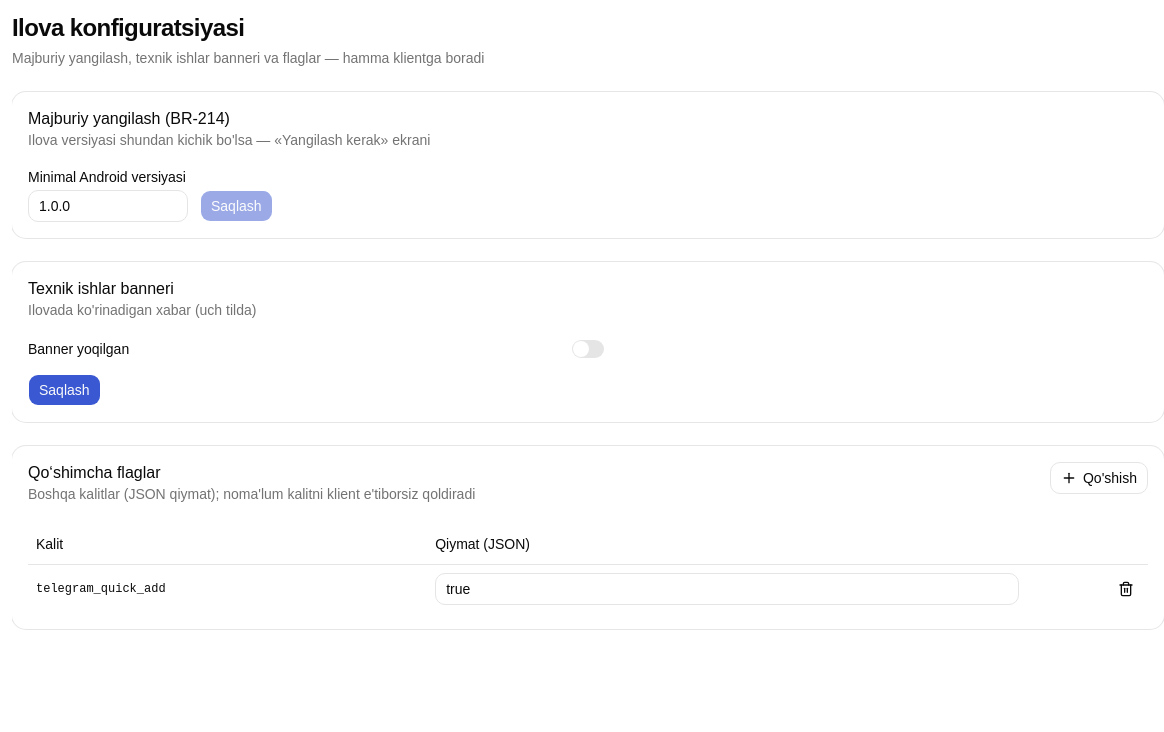
Scenario: PlatformConfigPage (E26-T02, BR-214) › flag qiymati JSON bo‘lishi kerak
Replace the text in the field named "telegram_quick_add qiymati" with "ha" at point(727, 589), box 435,573 -> 1019,605
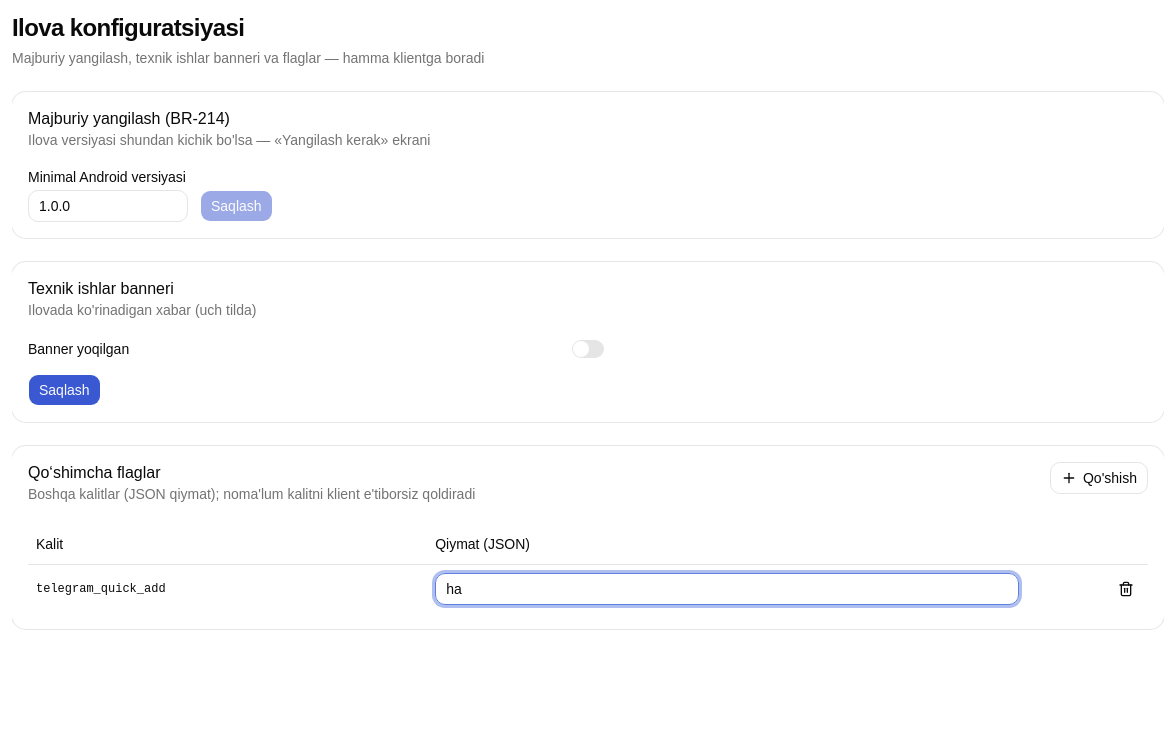
Press Tab
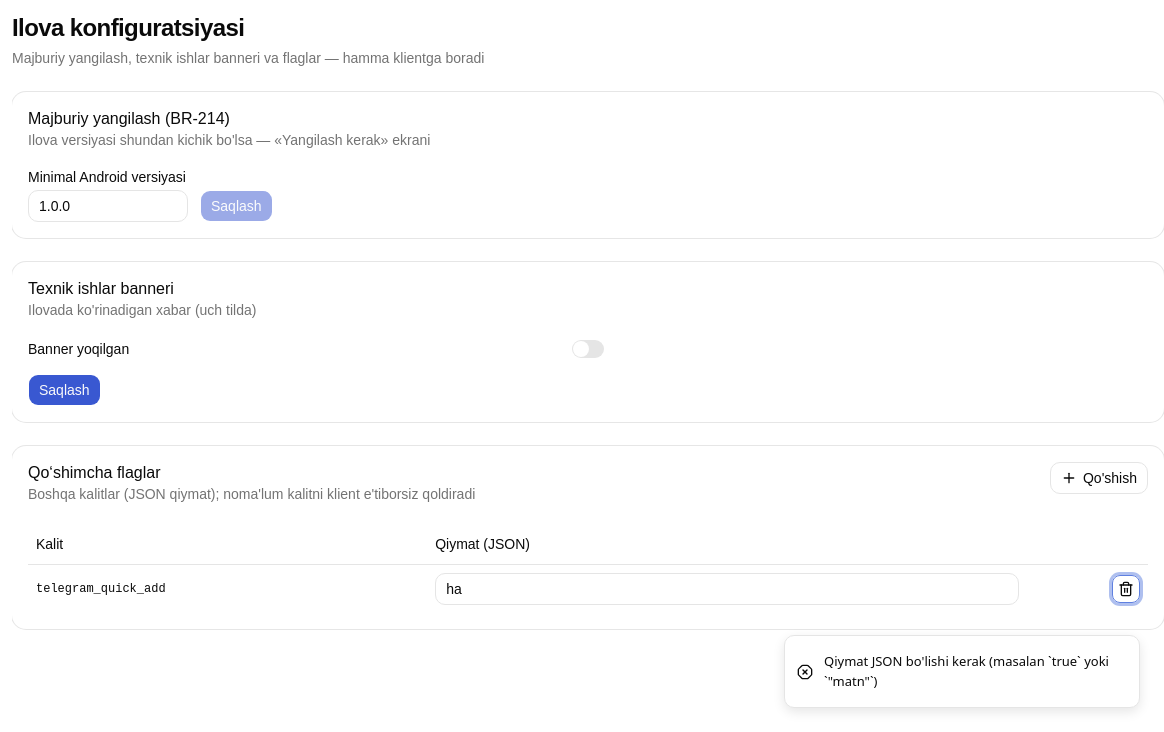
Check: the text "Qiymat JSON bo'lishi kerak (masalan `true` yoki `\"matn\"`)" is shown, box 824,652 -> 1123,691
